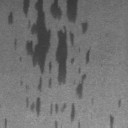red iron: (14, 0, 90, 91), (50, 103, 80, 128), (77, 68, 86, 96), (26, 98, 40, 115), (8, 12, 14, 24), (110, 116, 114, 128), (118, 100, 121, 107), (5, 119, 7, 128), (55, 121, 57, 128)
